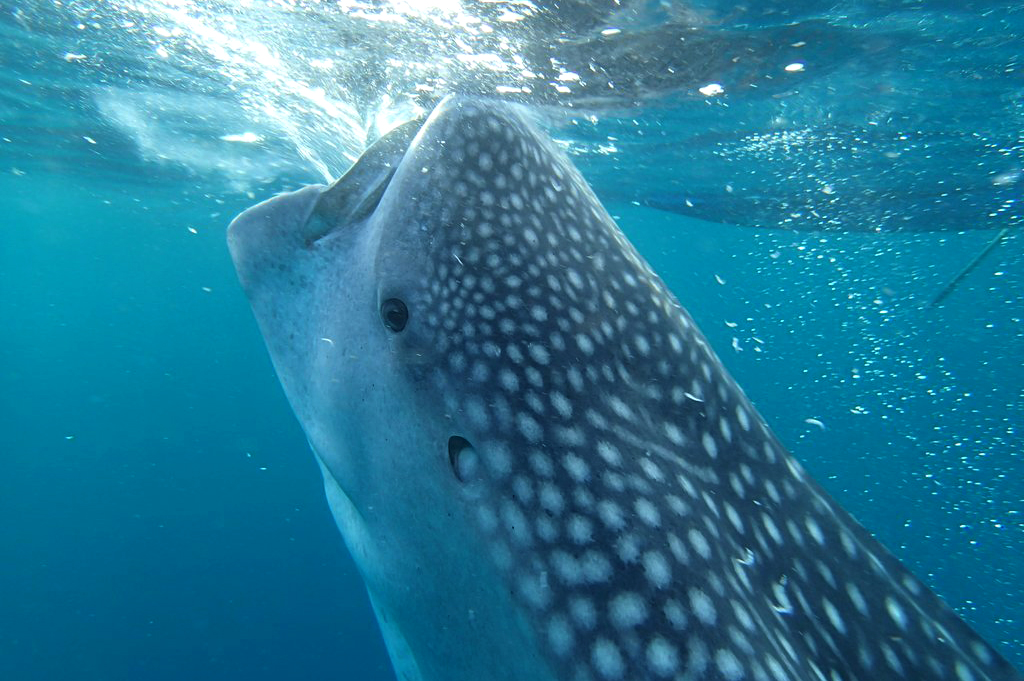Rhincodon_typusw: (191, 100, 1010, 681)
